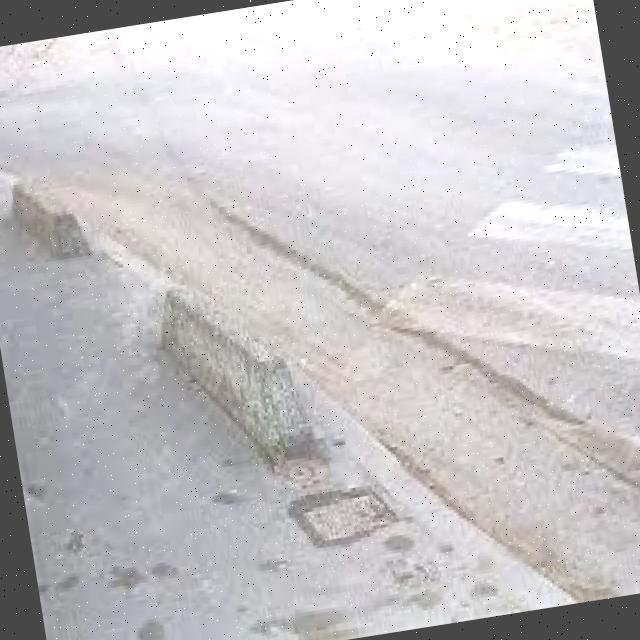curb: (160, 275, 315, 471), (12, 175, 95, 260)
